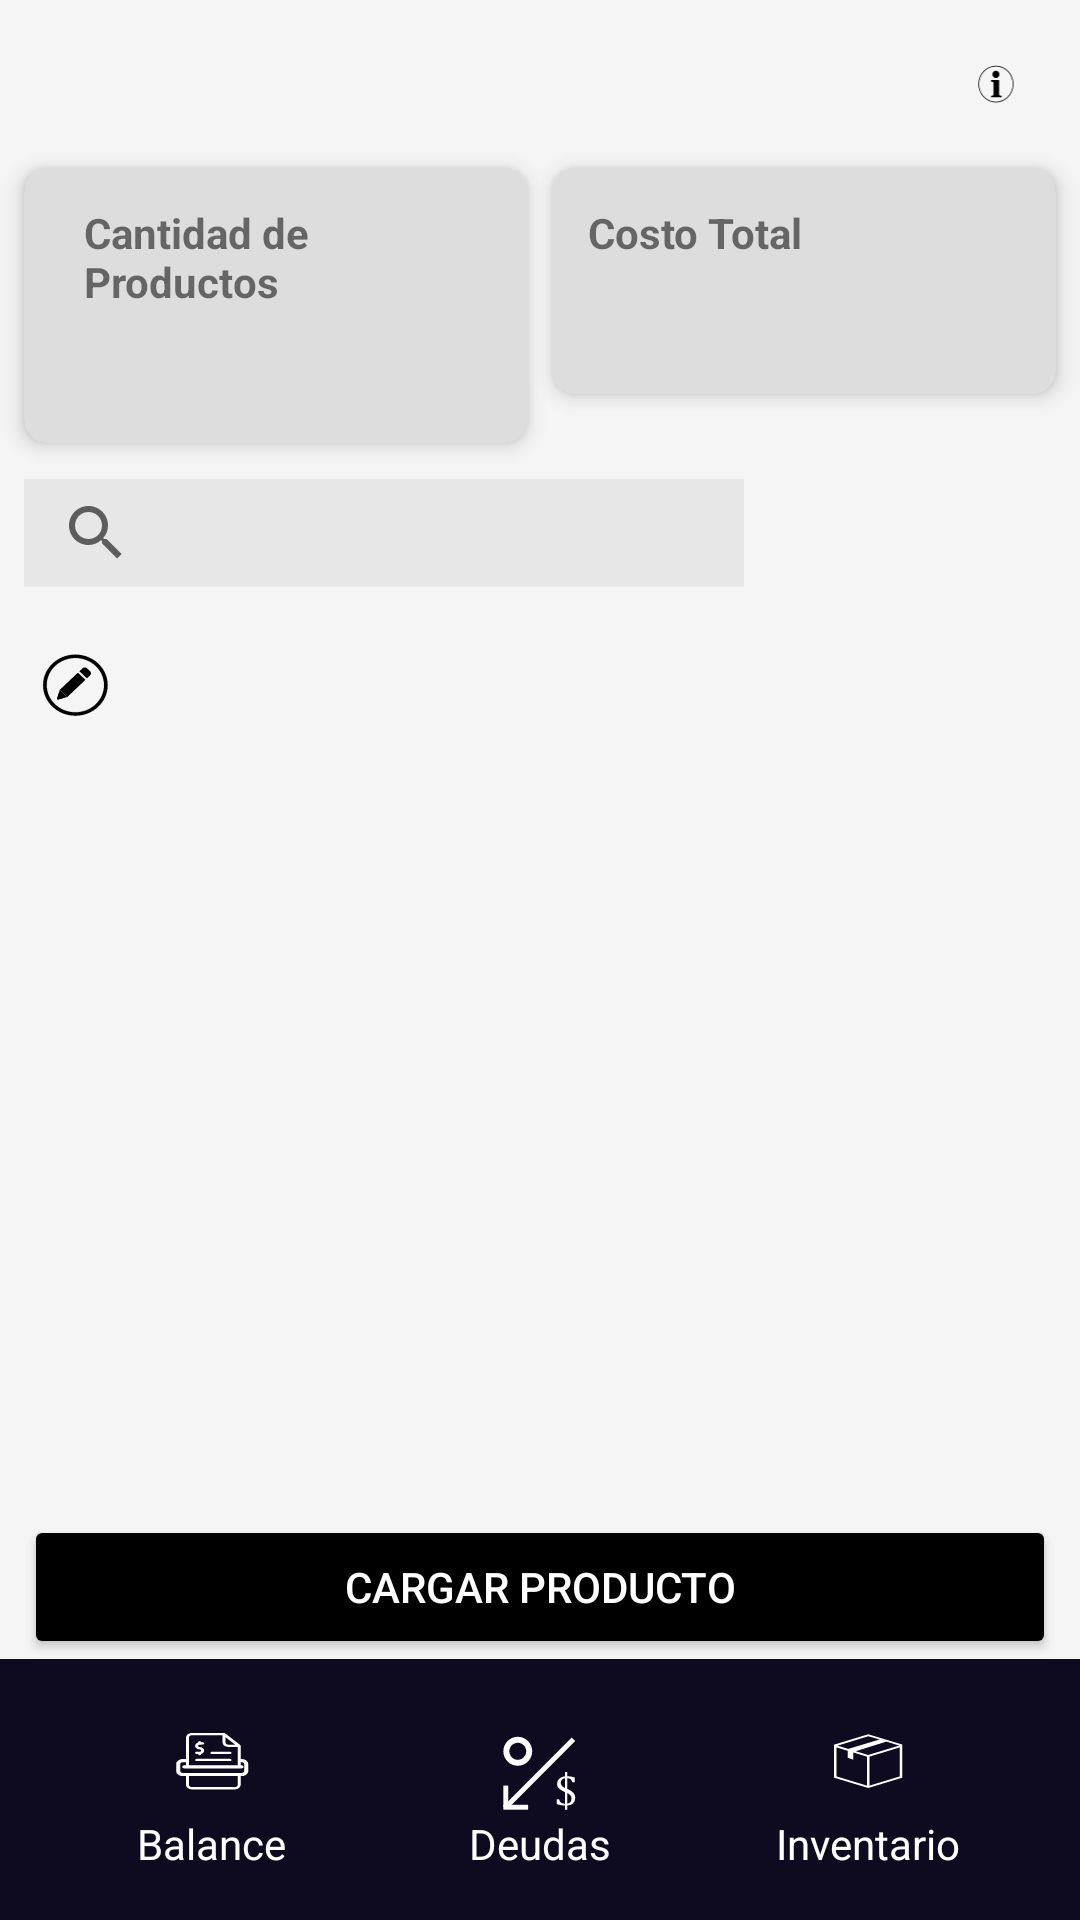

Where to tap for icons on this 1080*1920 app screen, as [x,y]:
edit: [75,685]
info: [996,84]
